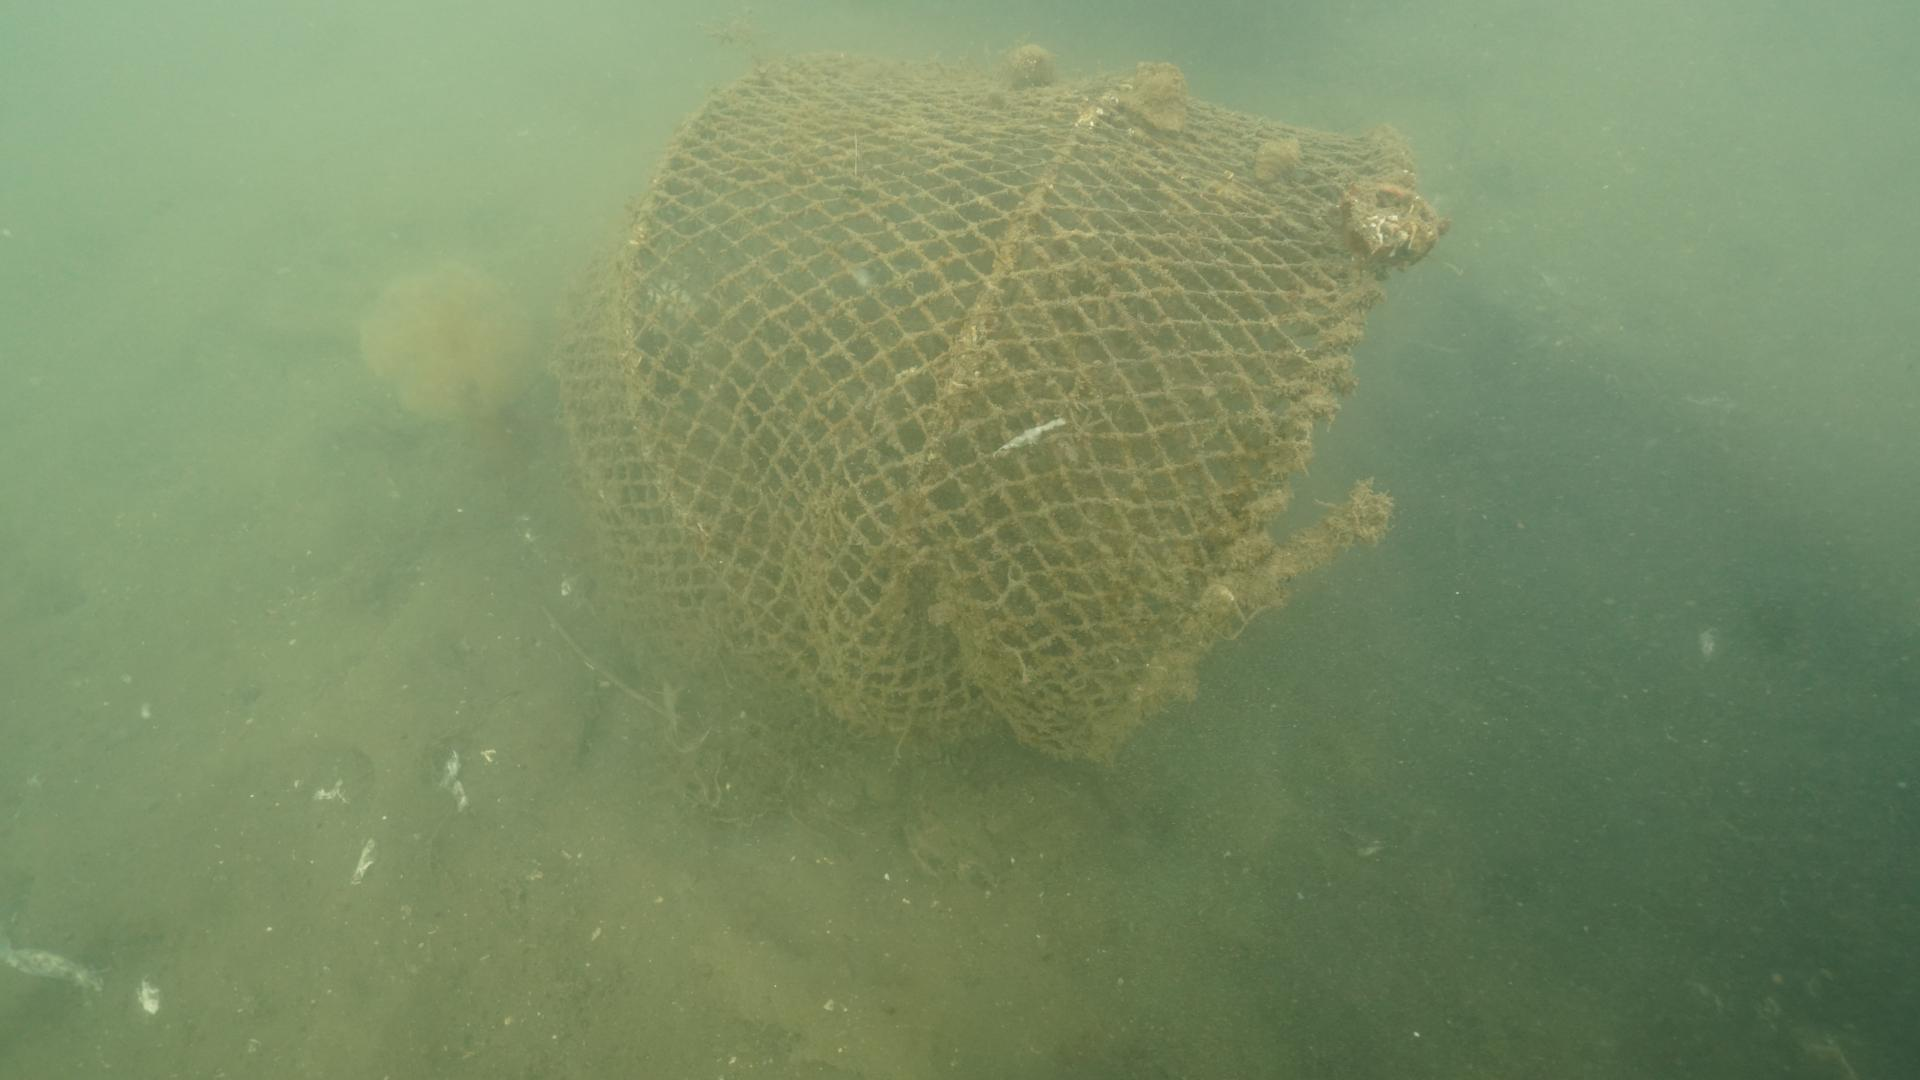spring fish trap: (541, 40, 1429, 787)
